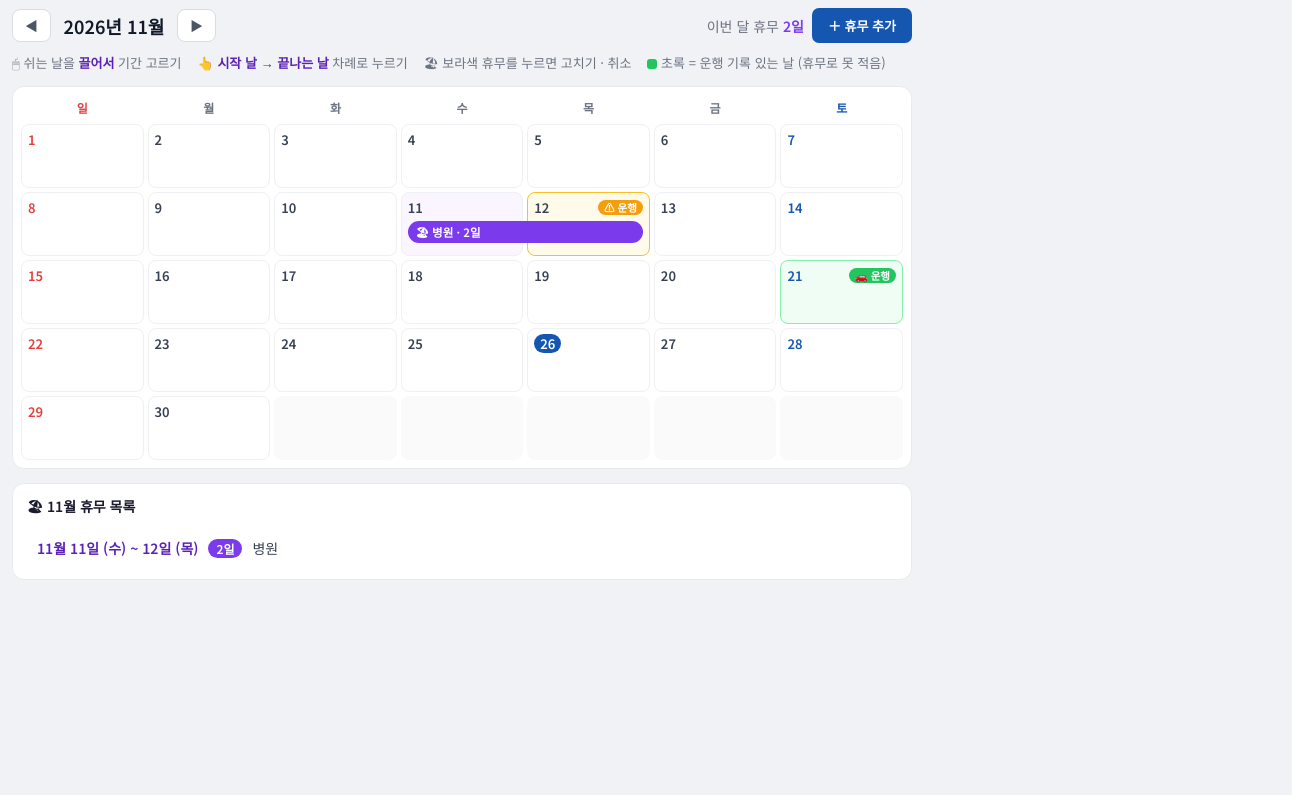
운행 기록이 있는 날은 초록 · 휴무로 못 적음 (이미 겹친 휴무는 ⚠ 운행)
The image size is (1292, 795).
Step 1. Press Enter in the button "21 🚗 운행", box [780,260,903,324]
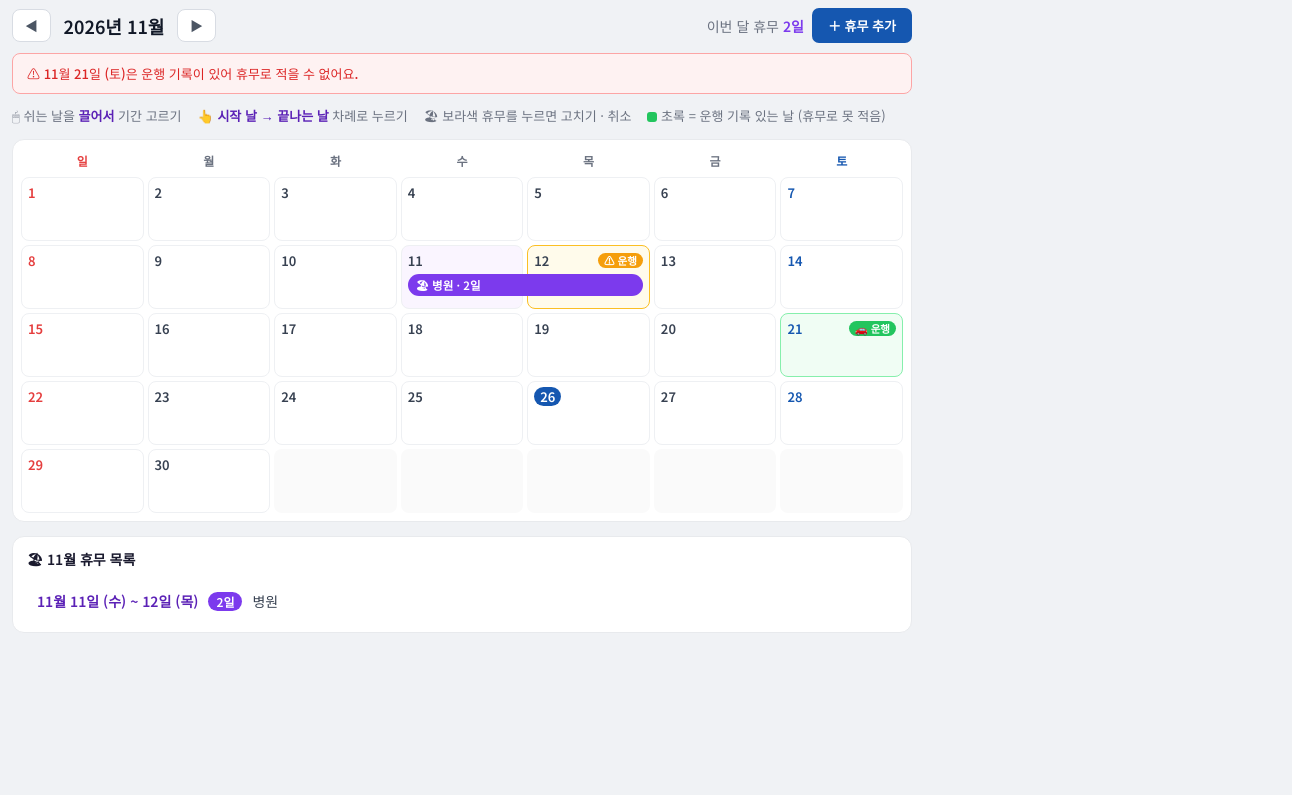
Check: the text "⚠ 11월 21일 (토)은 운행 기록이 있어 휴무로 적을 수 없어요." is shown, box [12,53,912,94]
Step 2. Press Enter in the button "20", box [654,313,776,377]
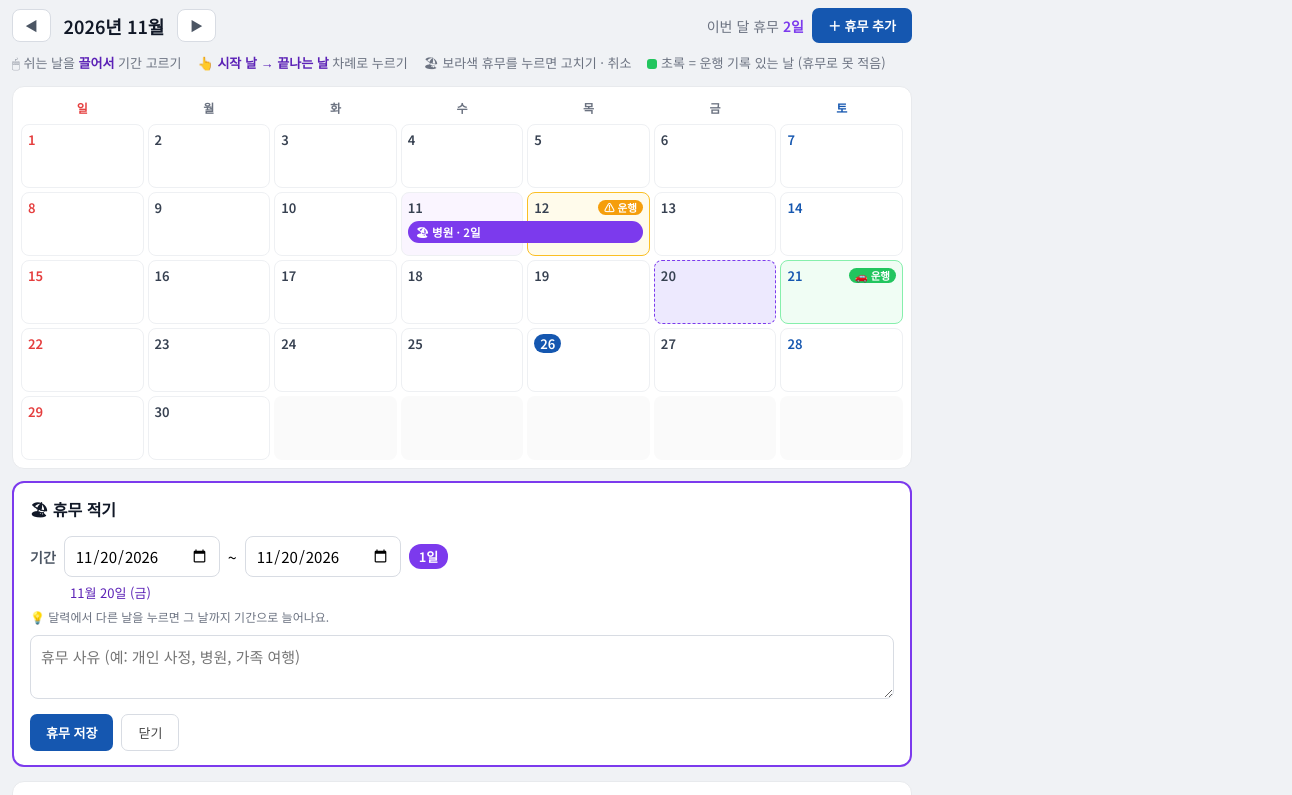
Step 3. Press Enter in the button "22", box [21,328,144,392]
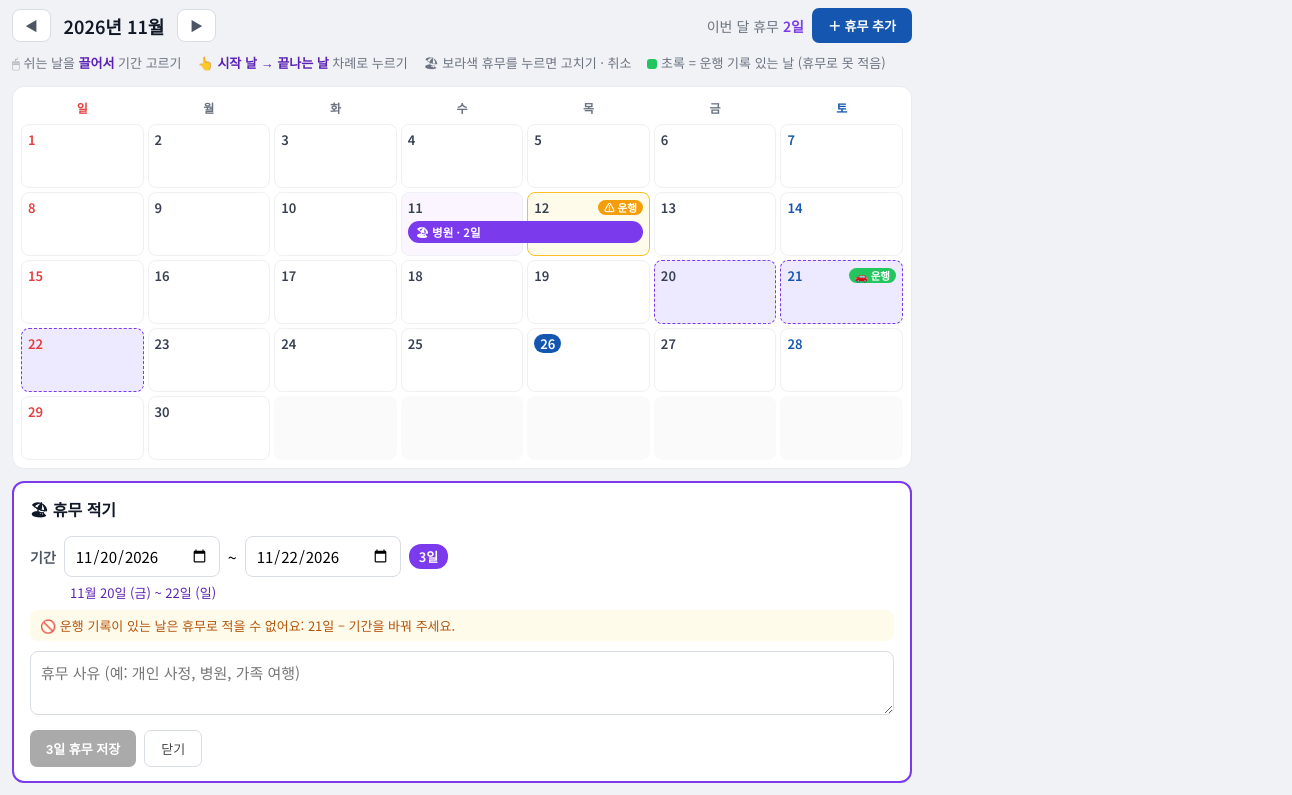
Check: the text "🚫 운행 기록이 있는 날은 휴무로 적을 수 없어요: 21일 – 기간을 바꿔 주세요." is shown, box [30,610,894,641]
Step 4. Type "여행" into the text box with placeholder "휴무 사유 (예: 개인 사정, 병원, 가족 여행)" → (462, 683), box [30,651,894,715]
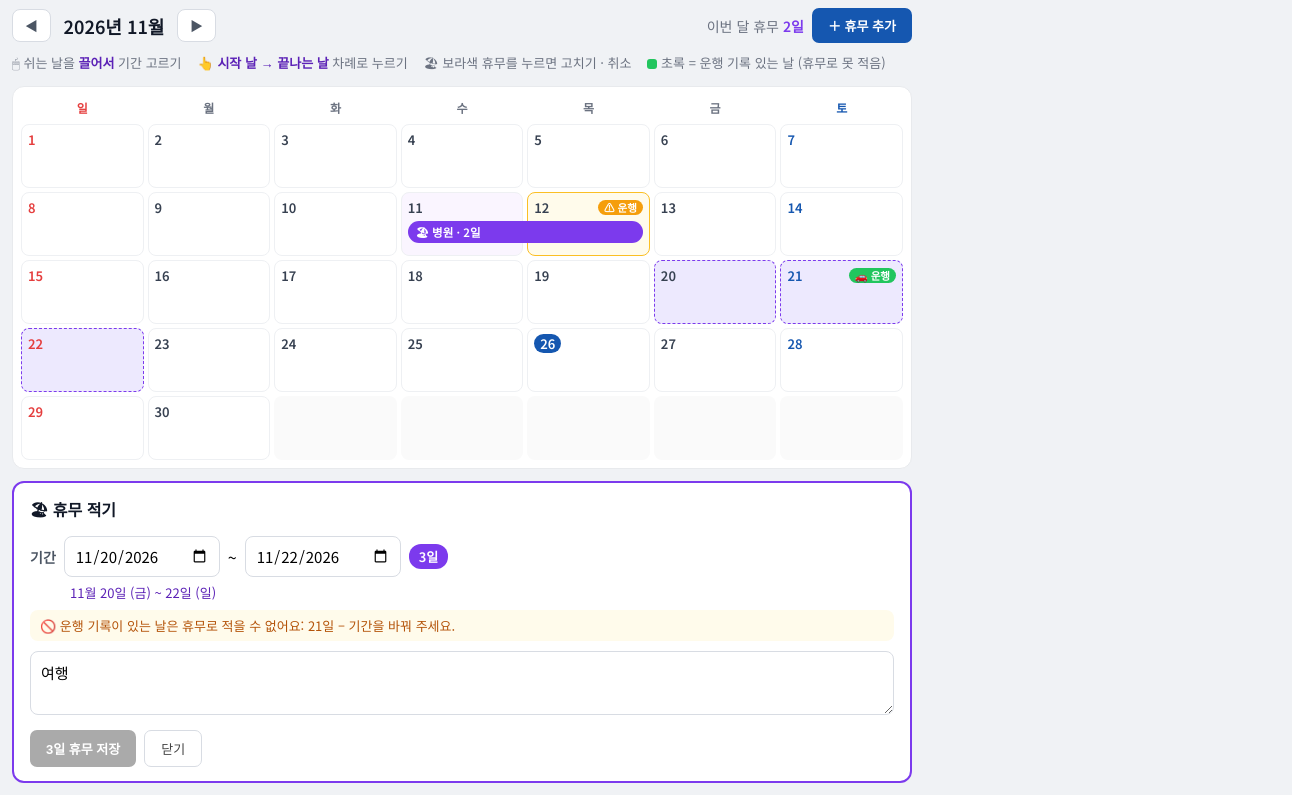
Check: the button "3일 휴무 저장" is disabled, box [30,730,136,767]
Step 5. Type "2026-11-20" into the date field named "끝나는 날" → (323, 556), box [245,536,401,577]
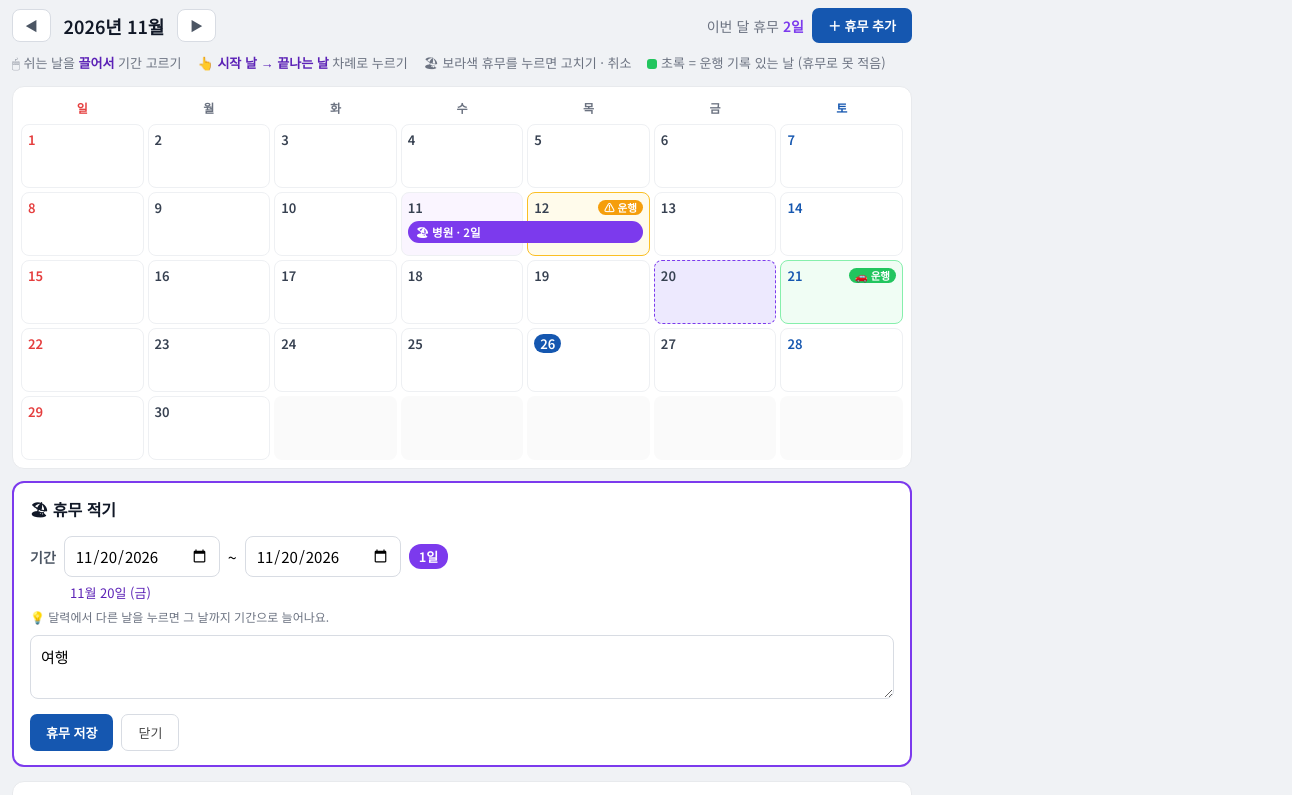
Step 6. Click the button "휴무 저장" → (72, 732), box [30,714,114,751]
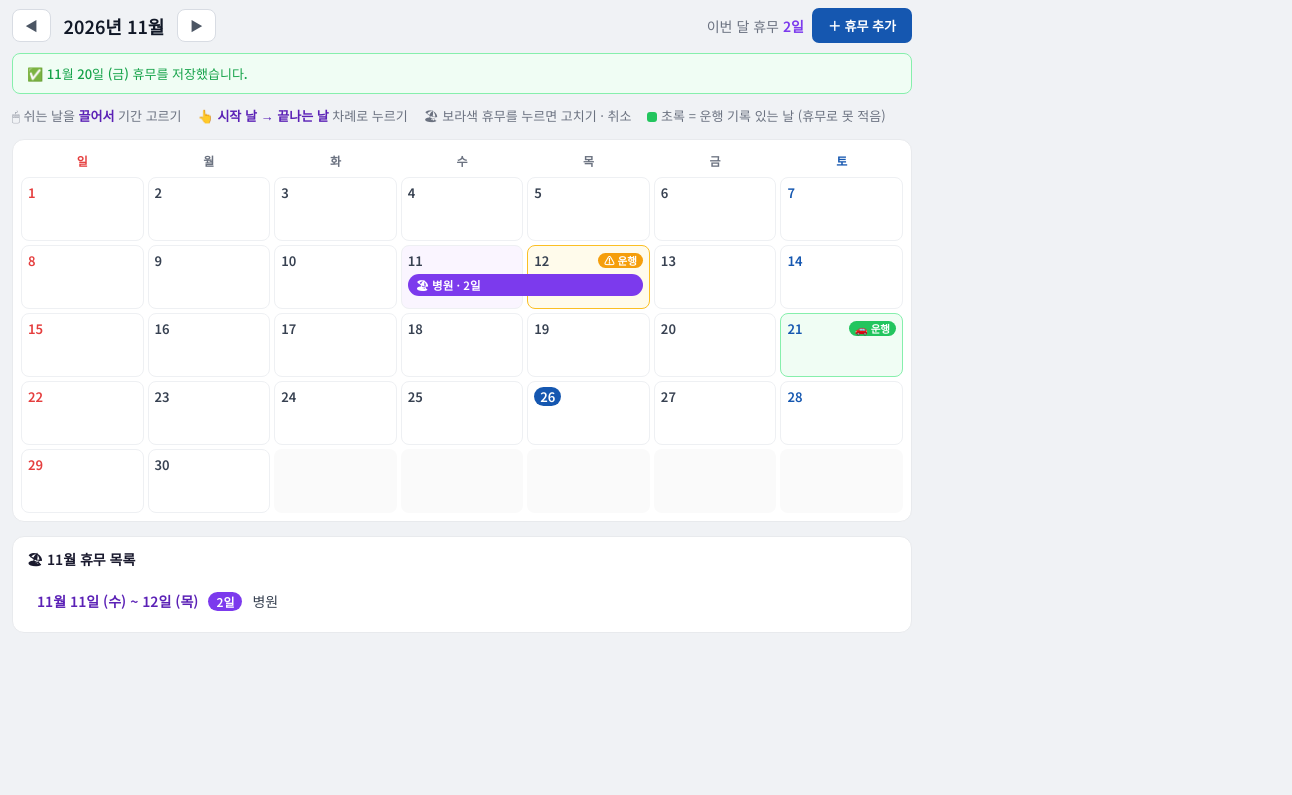
Check: the text "✅ 11월 20일 (금) 휴무를 저장했습니다." is shown, box [12,53,912,94]
